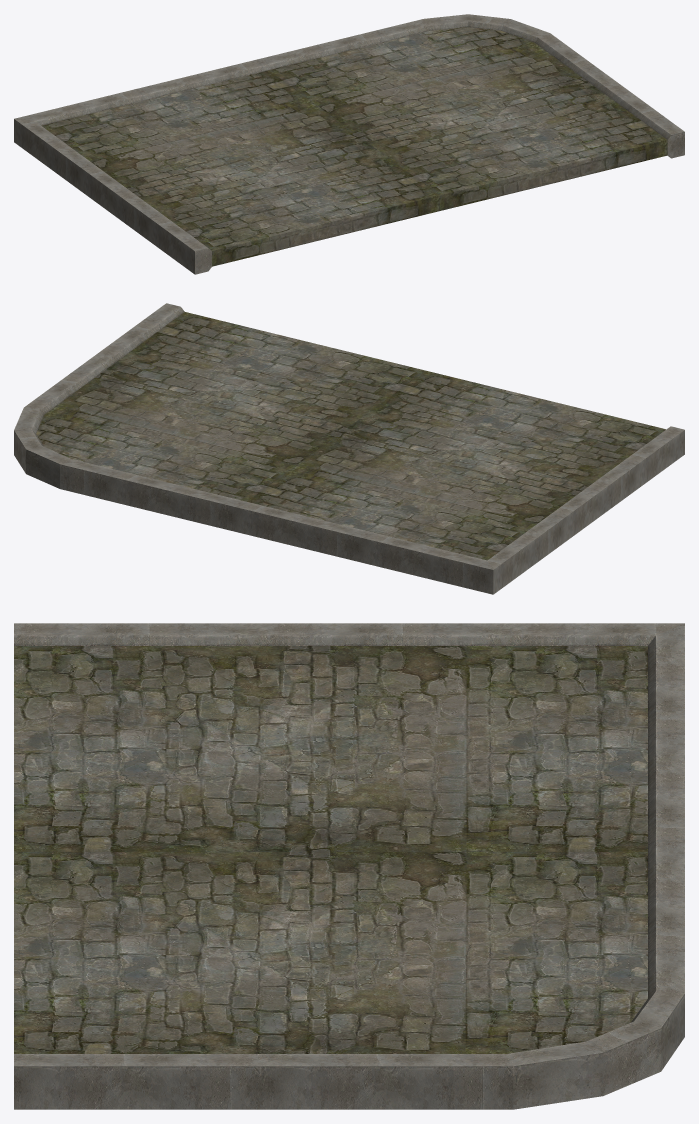
Rendered from bg_lut_lutomb_floor01_sm_old.FBX.
3 renders of one model, top to bottom at view 1: azimuth 30°, elevation 25°; view 2: azimuth 150°, elevation 25°; view 3: azimuth 270°, elevation 25°, orthographic. The views are drawn at different scales.
Visible parts, largest first — view 1: bg_lut_lutomb_floor01_sm_old; view 2: bg_lut_lutomb_floor01_sm_old; view 3: bg_lut_lutomb_floor01_sm_old.
Part boxes in pixels (<box>): bg_lut_lutomb_floor01_sm_old: <box>14,14,684,274</box>; bg_lut_lutomb_floor01_sm_old: <box>14,303,684,594</box>; bg_lut_lutomb_floor01_sm_old: <box>14,623,684,1109</box>.
Bounding box in the file's own units: 2100 × 96 × 1344.
